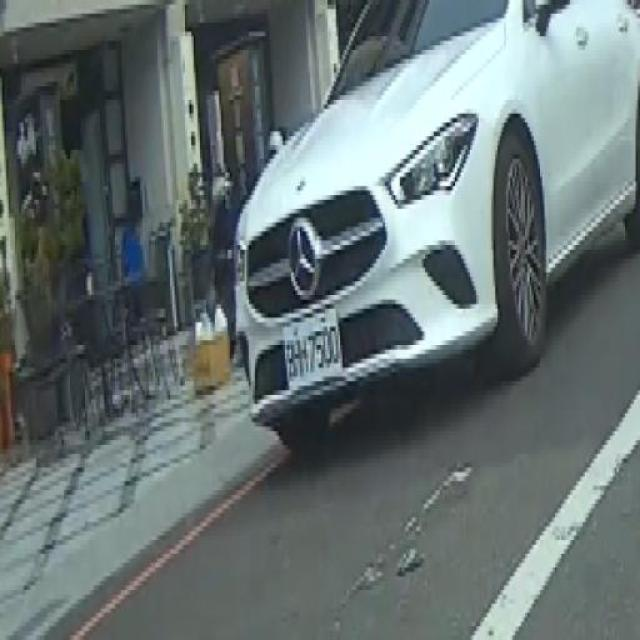Legalparking: (201, 3, 640, 515)
